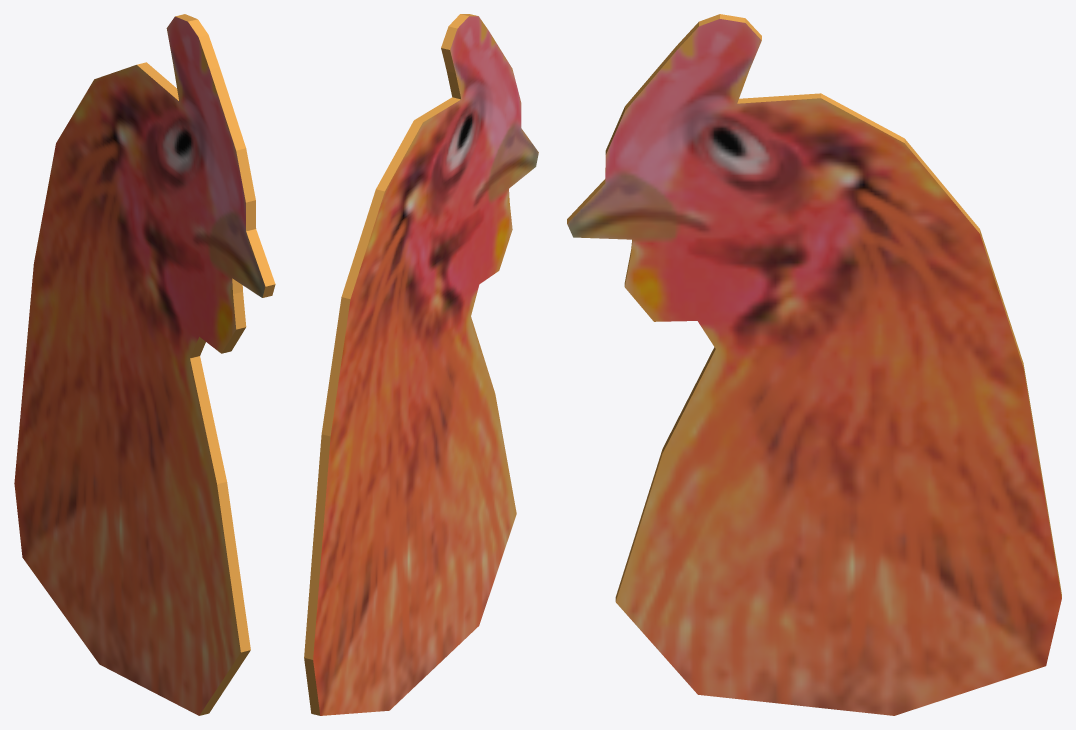
Rendered from Hen_head.fbx.
3 renders of one model, left to right at view 1: azimuth 30°, elevation 25°; view 2: azimuth 150°, elevation 25°; view 3: azimuth 270°, elevation 25°, orthographic. The views are drawn at different scales.
Visible parts, largest first — view 1: Hen_head; view 2: Hen_head; view 3: Hen_head.
Part boxes in pixels (x1,y1,x2,y2): Hen_head: [14, 14, 275, 715]; Hen_head: [304, 14, 538, 715]; Hen_head: [567, 14, 1061, 715].
Bounding box in the file's own units: 1 × 67.33 × 43.31.
